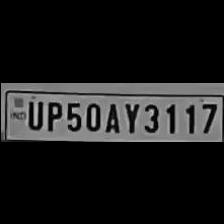0: (82, 99, 102, 130)
1: (160, 100, 180, 132), (179, 100, 197, 132)
3: (138, 100, 160, 132)
5: (61, 97, 81, 130)
7: (196, 100, 218, 132)
A: (102, 99, 120, 133)
P: (42, 97, 62, 130)
U: (23, 96, 43, 130)
Y: (120, 99, 140, 133)
